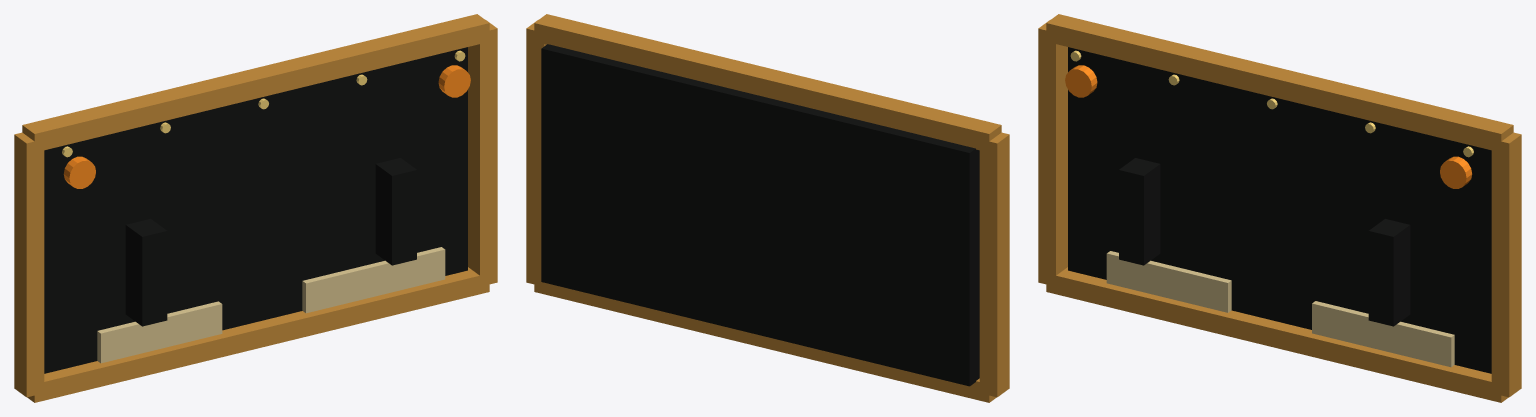
Rendered from V0135WA_004_WallWeaponDisplayFrame.obj.
The picture shows the model from 3 angles, left to right: view 1: azimuth 30°, elevation 25°; view 2: azimuth 150°, elevation 25°; view 3: azimuth 330°, elevation 25°; orthographic projection.
Parts seen in each view (by area): view 1: wall_mount_blackened_backplate, aged_brass_top_rail, aged_brass_bottom_rail, left_vertical_brass_frame, right_vertical_brass_frame, cream_label_plate_scattergun, weapon_hook_pair_-0.7, weapon_hook_pair_0.7, cream_label_plate_pressure_pistol, amber_display_lamp_left, amber_display_lamp_right; view 2: wall_mount_blackened_backplate, aged_brass_top_rail, left_vertical_brass_frame, aged_brass_bottom_rail, right_vertical_brass_frame; view 3: wall_mount_blackened_backplate, aged_brass_top_rail, aged_brass_bottom_rail, right_vertical_brass_frame, left_vertical_brass_frame, cream_label_plate_scattergun, weapon_hook_pair_0.7, weapon_hook_pair_-0.7, cream_label_plate_pressure_pistol, amber_display_lamp_left, amber_display_lamp_right.
Boxes of the visible parts, x1=… form: wall_mount_blackened_backplate: x1=44, y1=47, x2=467, y2=373; aged_brass_top_rail: x1=22, y1=14, x2=489, y2=152; aged_brass_bottom_rail: x1=27, y1=267, x2=489, y2=402; left_vertical_brass_frame: x1=14, y1=132, x2=44, y2=397; right_vertical_brass_frame: x1=468, y1=20, x2=497, y2=286; cream_label_plate_scattergun: x1=302, y1=247, x2=445, y2=313; weapon_hook_pair_-0.7: x1=125, y1=219, x2=167, y2=326; weapon_hook_pair_0.7: x1=375, y1=158, x2=416, y2=265; cream_label_plate_pressure_pistol: x1=97, y1=301, x2=222, y2=363; amber_display_lamp_left: x1=63, y1=156, x2=95, y2=188; amber_display_lamp_right: x1=438, y1=65, x2=470, y2=97; wall_mount_blackened_backplate: x1=541, y1=44, x2=979, y2=386; aged_brass_top_rail: x1=534, y1=14, x2=1001, y2=152; left_vertical_brass_frame: x1=979, y1=132, x2=1009, y2=397; aged_brass_bottom_rail: x1=534, y1=273, x2=996, y2=402; right_vertical_brass_frame: x1=526, y1=20, x2=546, y2=286; wall_mount_blackened_backplate: x1=1068, y1=47, x2=1491, y2=373; aged_brass_top_rail: x1=1046, y1=14, x2=1513, y2=152; aged_brass_bottom_rail: x1=1046, y1=267, x2=1508, y2=402; right_vertical_brass_frame: x1=1491, y1=132, x2=1521, y2=397; left_vertical_brass_frame: x1=1038, y1=20, x2=1067, y2=286; cream_label_plate_scattergun: x1=1312, y1=301, x2=1454, y2=367; weapon_hook_pair_0.7: x1=1368, y1=219, x2=1410, y2=326; weapon_hook_pair_-0.7: x1=1119, y1=158, x2=1160, y2=265; cream_label_plate_pressure_pistol: x1=1106, y1=251, x2=1231, y2=312; amber_display_lamp_left: x1=1065, y1=65, x2=1097, y2=97; amber_display_lamp_right: x1=1440, y1=156, x2=1472, y2=188.
Size of the model in its own units: 2.64 by 1.44 by 0.35.
